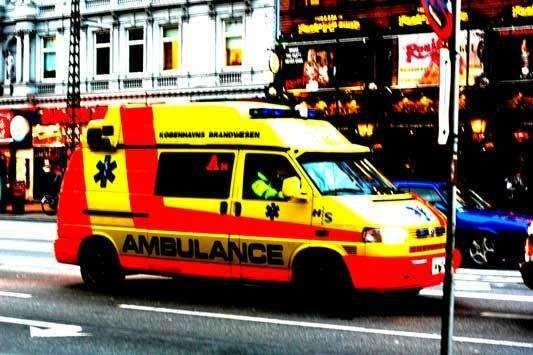car: (52, 98, 456, 304)
